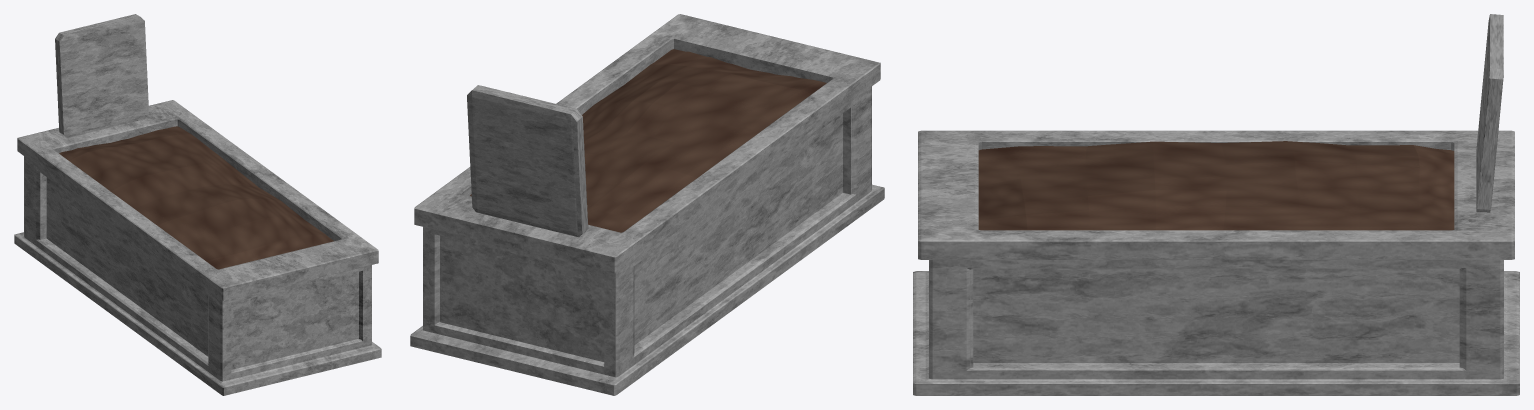
File: mezarson.fbx
3 renders of one model, left to right at view 1: azimuth 30°, elevation 25°; view 2: azimuth 150°, elevation 25°; view 3: azimuth 270°, elevation 25°, orthographic. The views are drawn at different scales.
Parts seen in each view (by area): view 1: mezar base, Cube, mezar taşı; view 2: mezar base, Cube, mezar taşı; view 3: mezar base, Cube, mezar taşı.
Part boxes in pixels (x1=…): mezar base: x1=14, y1=100, x2=381, y2=395; Cube: x1=59, y1=126, x2=333, y2=269; mezar taşı: x1=55, y1=14, x2=148, y2=137; mezar base: x1=410, y1=14, x2=884, y2=395; Cube: x1=470, y1=49, x2=826, y2=232; mezar taşı: x1=467, y1=85, x2=588, y2=237; mezar base: x1=913, y1=130, x2=1519, y2=395; Cube: x1=978, y1=141, x2=1454, y2=230; mezar taşı: x1=1476, y1=14, x2=1503, y2=212.
Size of the model in its own units: 312 by 385 by 711.
